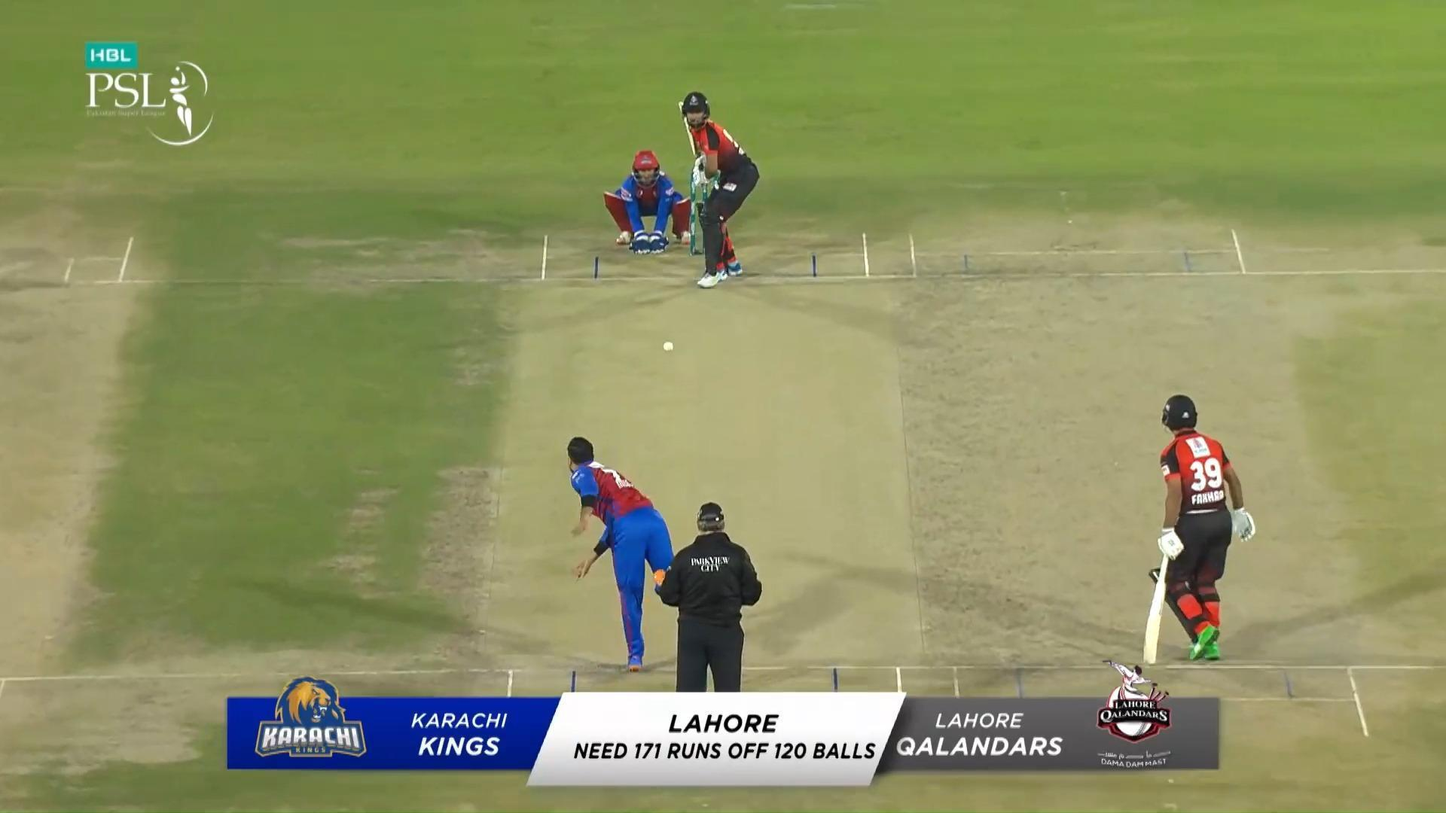BM 1: (678, 91, 760, 289)
BO: (564, 435, 685, 674)
